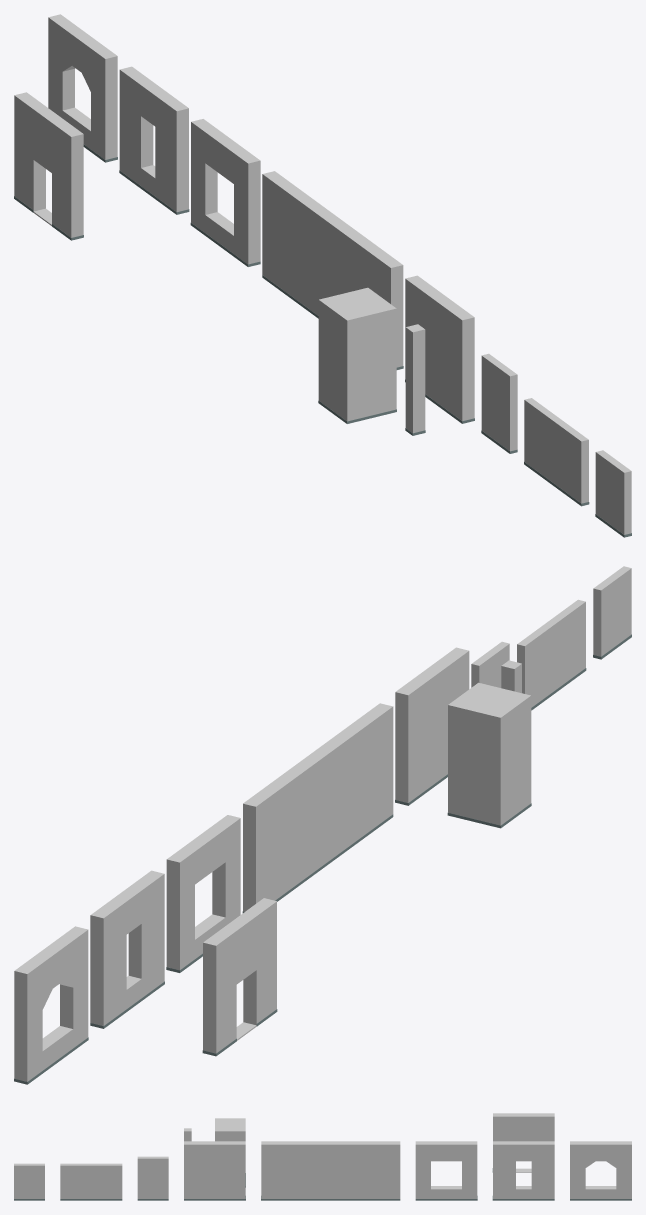
Rendered from walls.fbx.
3 views of the same model, one above another, from view 1: azimuth 30°, elevation 25°; view 2: azimuth 150°, elevation 25°; view 3: azimuth 270°, elevation 25° (orthographic). The views are drawn at different scales.
Visible parts, largest first — view 1: wall_2, wall_6, wall_4, wall_11, wall_3, wall_5, wall_1, wall_9, wall_8, wall_10, wall_7; view 2: wall_2, wall_6, wall_4, wall_11, wall_5, wall_3, wall_1, wall_9, wall_10, wall_8; view 3: wall_2, wall_1, wall_4, wall_5, wall_3, wall_9, wall_11, wall_8, wall_10, wall_6.
Part boxes in pixels (x1=…): wall_2: x1=262, y1=171, x2=403, y2=369; wall_6: x1=318, y1=287, x2=396, y2=423; wall_4: x1=119, y1=66, x2=189, y2=214; wall_11: x1=14, y1=92, x2=83, y2=240; wall_3: x1=190, y1=119, x2=260, y2=266; wall_5: x1=48, y1=14, x2=117, y2=162; wall_1: x1=405, y1=275, x2=474, y2=423; wall_9: x1=524, y1=398, x2=589, y2=506; wall_8: x1=481, y1=353, x2=517, y2=453; wall_10: x1=595, y1=450, x2=631, y2=537; wall_7: x1=405, y1=324, x2=425, y2=435; wall_2: x1=242, y1=703, x2=393, y2=912; wall_6: x1=447, y1=682, x2=531, y2=828; wall_4: x1=90, y1=870, x2=164, y2=1028; wall_11: x1=202, y1=898, x2=277, y2=1056; wall_5: x1=14, y1=926, x2=88, y2=1084; wall_3: x1=166, y1=815, x2=240, y2=972; wall_1: x1=395, y1=647, x2=469, y2=805; wall_9: x1=517, y1=599, x2=586, y2=710; wall_10: x1=593, y1=566, x2=631, y2=659; wall_8: x1=471, y1=641, x2=509, y2=687; wall_2: x1=261, y1=1141, x2=400, y2=1200; wall_1: x1=184, y1=1141, x2=245, y2=1200; wall_4: x1=492, y1=1141, x2=554, y2=1200; wall_5: x1=570, y1=1141, x2=631, y2=1200; wall_3: x1=415, y1=1141, x2=477, y2=1200; wall_9: x1=60, y1=1163, x2=122, y2=1200; wall_11: x1=492, y1=1113, x2=554, y2=1172; wall_8: x1=137, y1=1156, x2=168, y2=1200; wall_10: x1=14, y1=1163, x2=44, y2=1200; wall_6: x1=215, y1=1118, x2=245, y2=1187.
Bounding box in the file's own units: 4.78 × 4 × 40.01.
